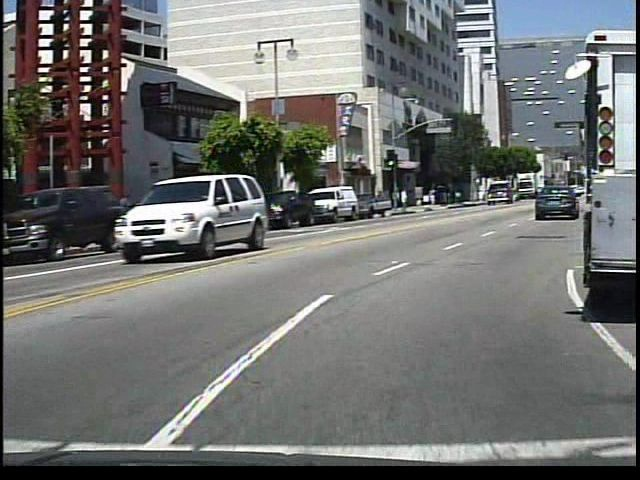person: (401, 187, 416, 214)
